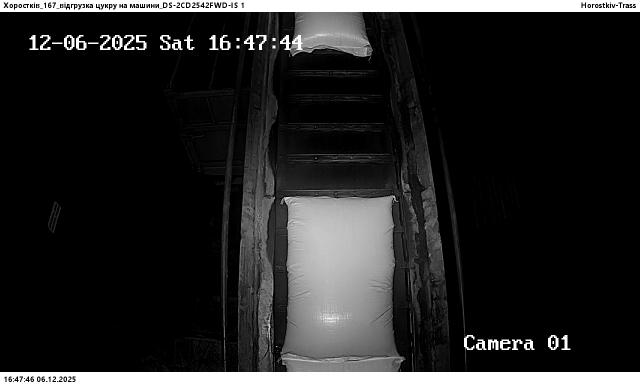bag: (282, 196, 399, 357), (290, 12, 372, 57)
